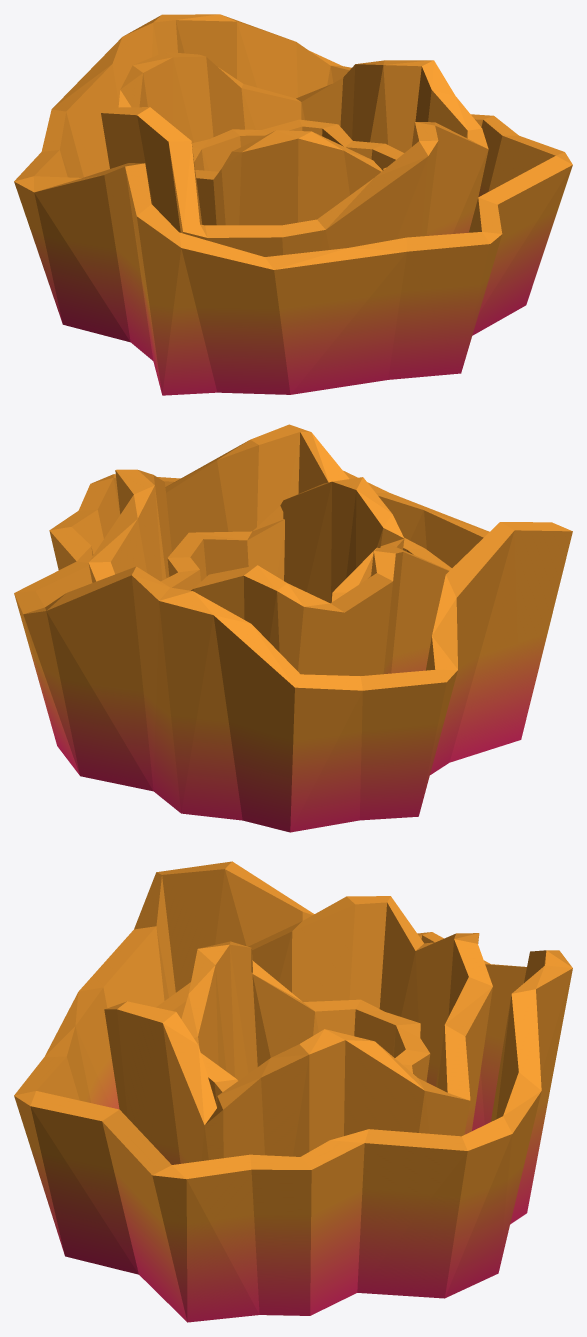
Rendered from SM_Coral_23.fbx.
The picture shows the model from 3 angles, top to bottom: view 1: azimuth 30°, elevation 25°; view 2: azimuth 150°, elevation 25°; view 3: azimuth 270°, elevation 25°; orthographic projection. The views are drawn at different scales.
Parts seen in each view (by area): view 1: Coral_23; view 2: Coral_23; view 3: Coral_23.
Boxes of the visible parts, left/top/right/bottom form: Coral_23: left=14, top=14, right=572, bottom=395; Coral_23: left=14, top=424, right=572, bottom=832; Coral_23: left=14, top=861, right=572, bottom=1322.
Bounding box in the file's own units: 275 × 131 × 263.
